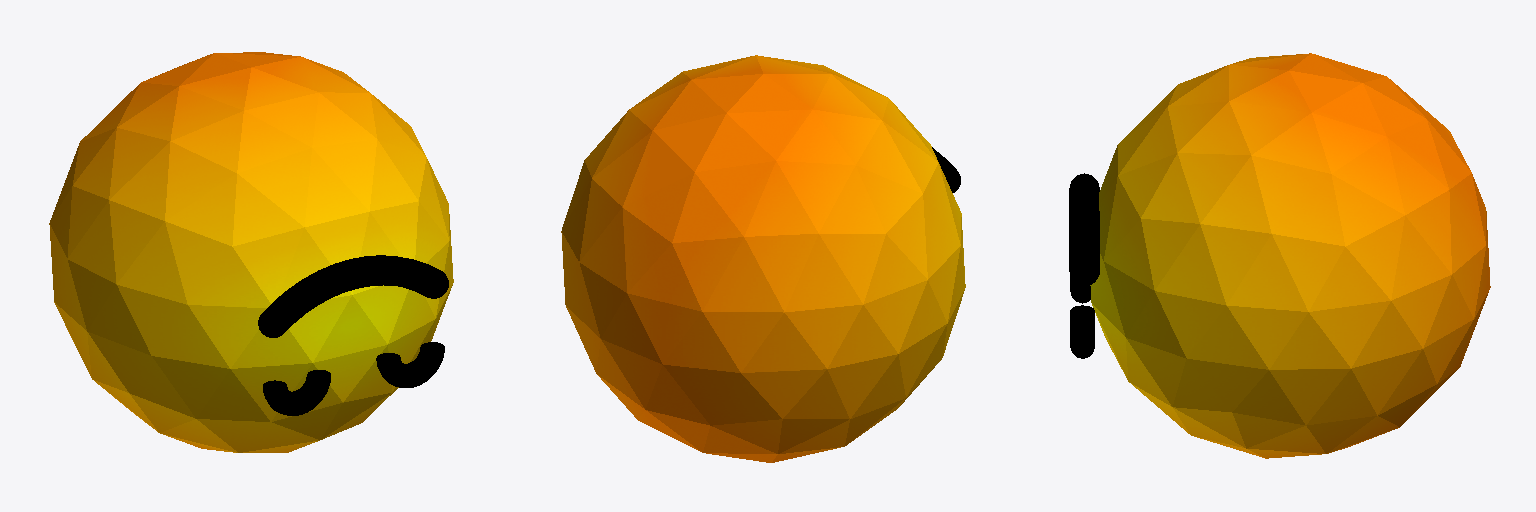
3 views of the same model, side by side, from view 1: azimuth 30°, elevation 25°; view 2: azimuth 150°, elevation 25°; view 3: azimuth 270°, elevation 25° (orthographic).
Visible parts, largest first — view 1: GeoSphere003, Capsule003, Torus005, Torus006; view 2: GeoSphere003; view 3: GeoSphere003, Capsule003, Torus005.
Boxes of the visible parts, x1=… form: GeoSphere003: x1=49, y1=52, x2=453, y2=452; Capsule003: x1=258, y1=255, x2=448, y2=337; Torus005: x1=376, y1=342, x2=444, y2=387; Torus006: x1=263, y1=370, x2=330, y2=415; GeoSphere003: x1=561, y1=55, x2=965, y2=462; GeoSphere003: x1=1090, y1=53, x2=1490, y2=458; Capsule003: x1=1069, y1=173, x2=1099, y2=285; Torus005: x1=1070, y1=305, x2=1094, y2=358.
Bounding box in the file's own units: 34.35 × 34.95 × 35.96.
2 materials, 1 textured.